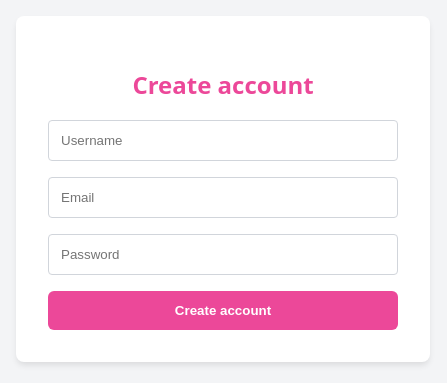
Test: RegisterForm › should disable button while loading
Type "testuser" into the field with placeholder "Username" at x=223, y=141, box x1=48 y1=120 x2=398 y2=161
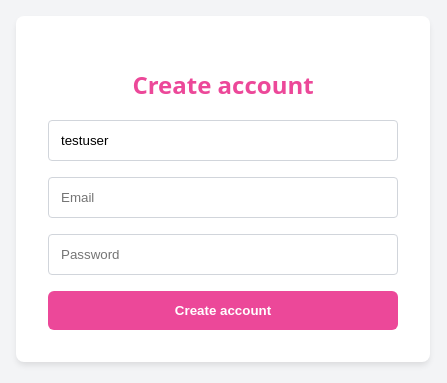
Type "test@example.com" into the field with placeholder "Email" at x=223, y=198, box x1=48 y1=177 x2=398 y2=218
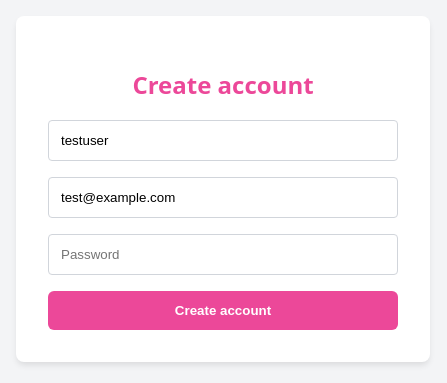
Type "password123" into the password field with placeholder "Password" at x=223, y=255, box x1=48 y1=234 x2=398 y2=275
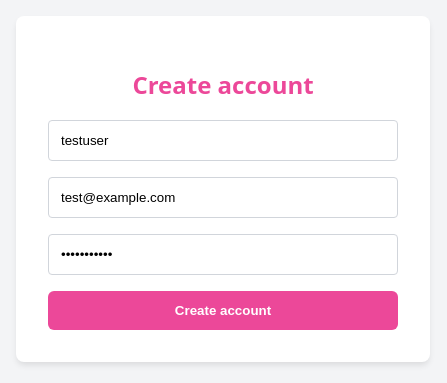
Click the button "Create account" at x=223, y=311, box x1=48 y1=291 x2=398 y2=330
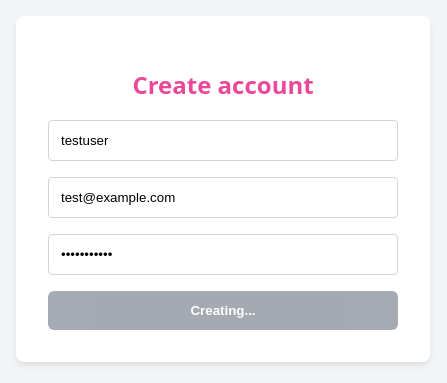
Expected: the button named "create account" is disabled, x1=48 y1=291 x2=398 y2=330
Expected: the button named "create account" reads "Creating...", x1=48 y1=291 x2=398 y2=330
